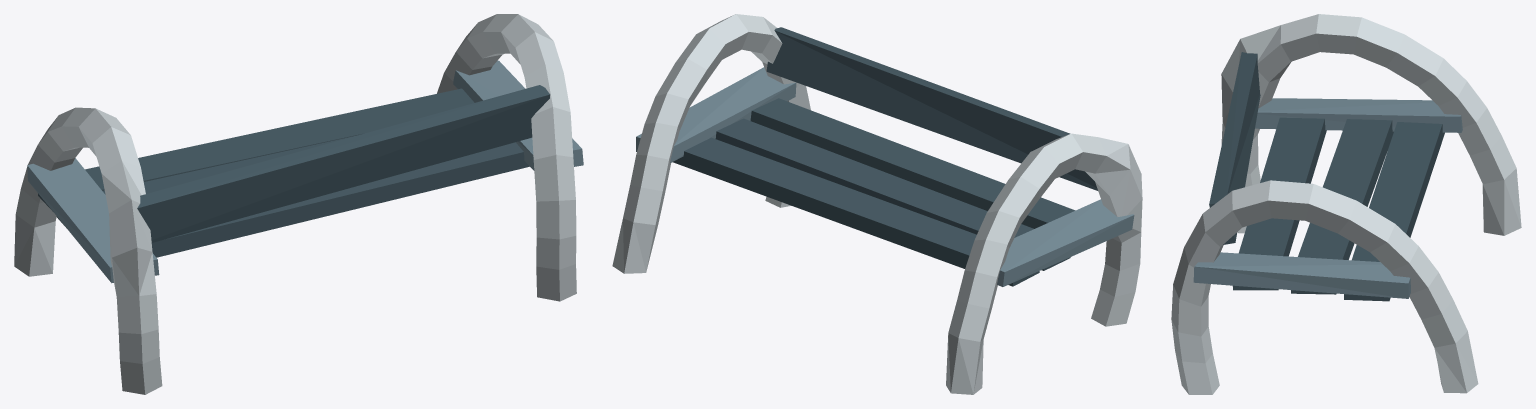
3 renders of one model, left to right at view 1: azimuth 30°, elevation 25°; view 2: azimuth 150°, elevation 25°; view 3: azimuth 270°, elevation 25°, orthographic. The views are drawn at different scales.
Parts seen in each view (by area): view 1: mesh_1985747188, group_197416398, group_2122782813, mesh_1604310674, mesh_960687897, mesh_1242390395, mesh_1998446306, mesh_326097305; view 2: group_197416398, mesh_1985747188, group_2122782813, mesh_960687897, mesh_1604310674, mesh_326097305, mesh_1242390395, mesh_1998446306; view 3: group_2122782813, group_197416398, mesh_1998446306, mesh_960687897, mesh_326097305, mesh_1604310674, mesh_1242390395, mesh_1985747188.
Boxes of the visible parts, bbox=[...] form: mesh_1985747188: bbox=[137, 85, 550, 242]; group_197416398: bbox=[14, 107, 162, 394]; group_2122782813: bbox=[437, 14, 576, 301]; mesh_1604310674: bbox=[151, 142, 529, 257]; mesh_960687897: bbox=[38, 88, 474, 211]; mesh_1242390395: bbox=[27, 158, 159, 283]; mesh_1998446306: bbox=[453, 60, 583, 170]; mesh_326097305: bbox=[56, 136, 354, 225]; group_197416398: bbox=[946, 133, 1142, 394]; mesh_1985747188: bbox=[766, 27, 1097, 190]; group_2122782813: bbox=[612, 14, 810, 273]; mesh_960687897: bbox=[672, 137, 1039, 286]; mesh_1604310674: bbox=[750, 98, 1075, 228]; mesh_326097305: bbox=[715, 118, 1070, 270]; mesh_1242390395: bbox=[997, 199, 1134, 286]; mesh_1998446306: bbox=[636, 67, 796, 162]; group_2122782813: bbox=[1171, 180, 1478, 394]; group_197416398: bbox=[1221, 14, 1521, 235]; mesh_1998446306: bbox=[1193, 252, 1410, 298]; mesh_960687897: bbox=[1344, 122, 1444, 301]; mesh_326097305: bbox=[1291, 119, 1393, 294]; mesh_1604310674: bbox=[1232, 117, 1326, 290]; mesh_1242390395: bbox=[1255, 98, 1462, 132]; mesh_1985747188: bbox=[1209, 52, 1260, 244].
Bounding box in the file's own units: 89.71 × 44.85 × 61.14.
